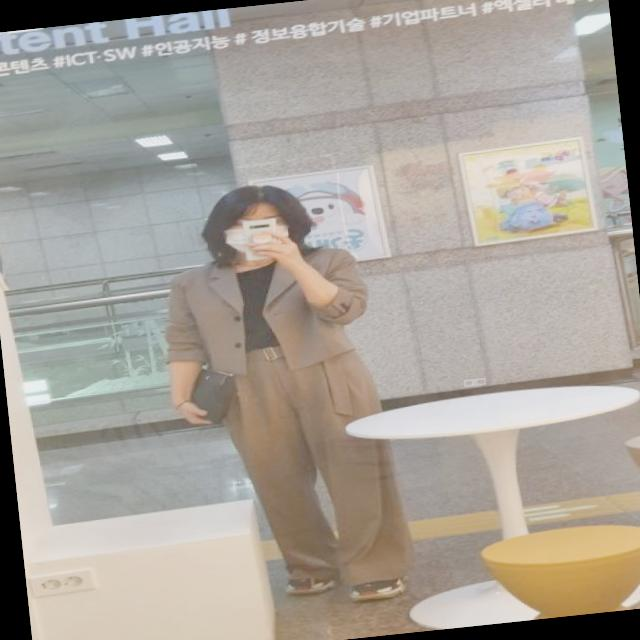blazer: (152, 238, 372, 380)
slacks: (200, 324, 420, 602)
